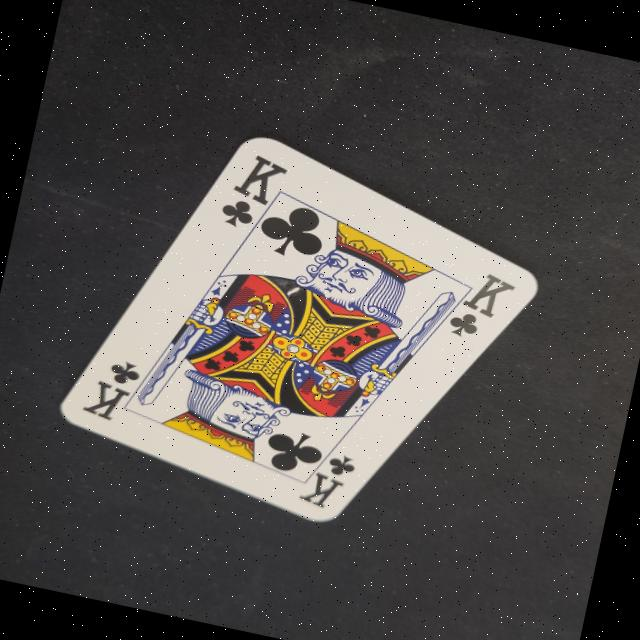Kc: (210, 142, 292, 242), (436, 258, 522, 350), (74, 346, 148, 429), (295, 442, 358, 514)
